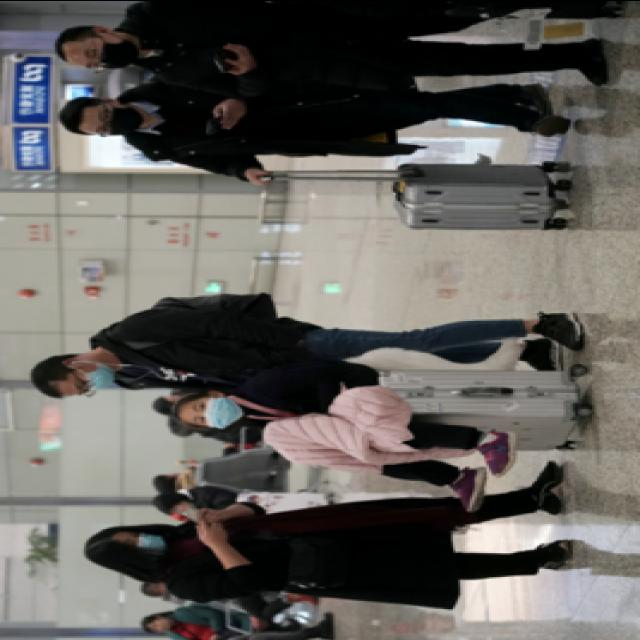mask: (74, 32, 138, 69), (86, 100, 142, 134), (65, 363, 117, 395), (185, 395, 237, 427), (120, 531, 166, 555)
no_mask: (148, 619, 170, 632)
